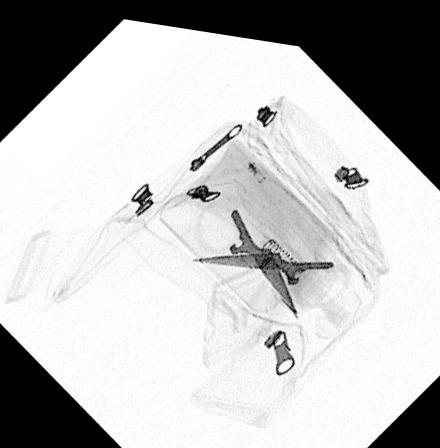Scissors: (189, 187, 346, 317)
